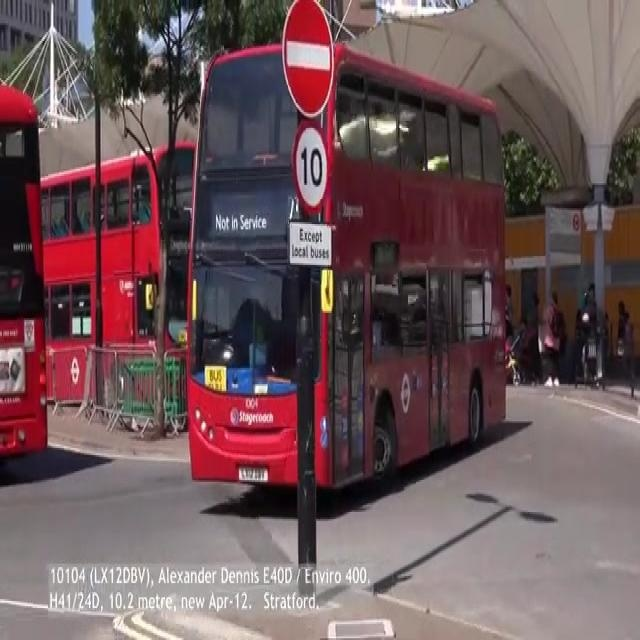Bus: (186, 39, 509, 493), (33, 132, 190, 423), (0, 80, 36, 473)
